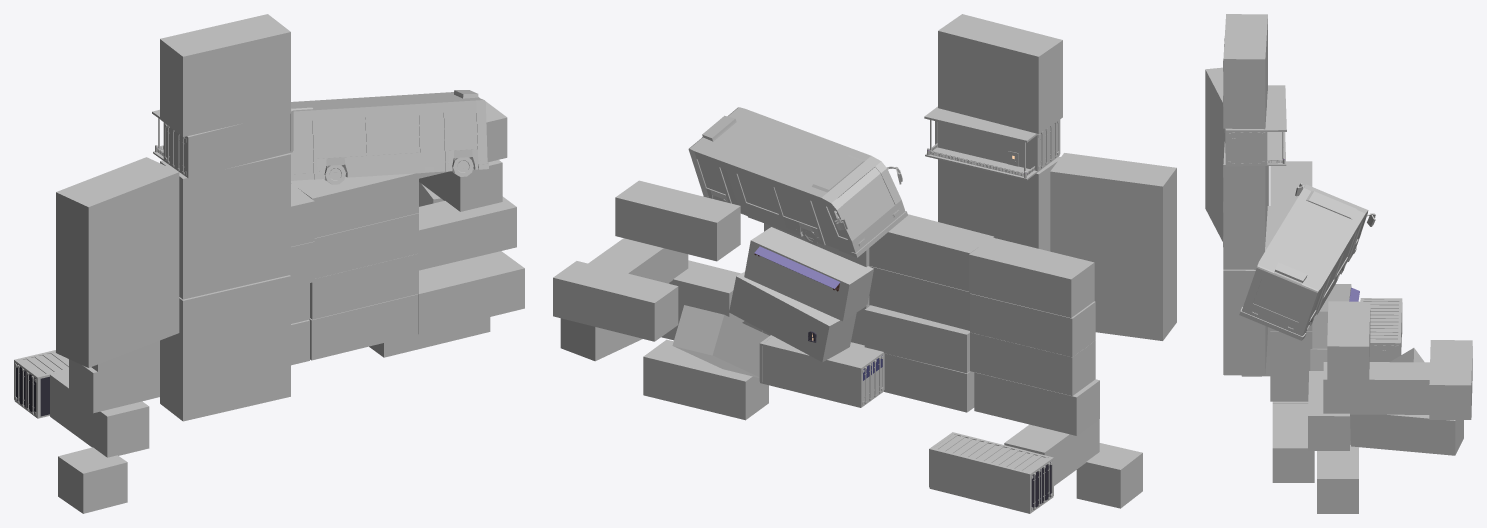
The model's file is CMBKGCrateMountain.fbx.
The picture shows the model from 3 angles, left to right: view 1: azimuth 30°, elevation 25°; view 2: azimuth 150°, elevation 25°; view 3: azimuth 270°, elevation 25°; orthographic projection. The views are drawn at different scales.
Parts seen in each view (by area): view 1: CrateStack.002, CrateStack.001, Crate Mountain Bus, Crates.060, CrateFenced, Crates.075, Crates.083, Crates.067, Crates.061, Crates.069, Crates.072, Crates.068 (+10 smaller); view 2: CrateStack.002, Crate Mountain Bus, CrateStack.001, BoxCrate.062, Crates.078, Crates.077, Crates.084, Crates.085, CrateFenced, BoxCrate.031, Crates.065, Crates.076 (+14 smaller); view 3: CrateStack.002, Crate Mountain Bus, Crates.079, Crates.081, Crates.084, Crates.078, CrateFenced, Crates.060, CrateStack.001, Crates.065, Crates.083, BoxCrate.062 (+7 smaller).
Part boxes in pixels (box(x1,y1,x2,y2)): CrateStack.002: box(160, 14, 290, 421); CrateStack.001: box(56, 157, 179, 367); Crate Mountain Bus: box(290, 90, 488, 184); Crates.060: box(418, 251, 524, 334); CrateFenced: box(152, 109, 293, 178); Crates.075: box(291, 173, 418, 238); Crates.083: box(419, 196, 516, 270); Crates.067: box(50, 370, 149, 457); Crates.061: box(309, 294, 417, 360); Crates.069: box(310, 253, 418, 319); Crates.072: box(314, 213, 418, 278); Crates.068: box(58, 447, 127, 513); CrateStack.002: box(938, 14, 1062, 251); Crate Mountain Bus: box(688, 107, 907, 257); CrateStack.001: box(1050, 153, 1176, 340); BoxCrate.062: box(929, 432, 1053, 513); Crates.078: box(553, 261, 678, 341); Crates.077: box(969, 237, 1094, 317); Crates.084: box(615, 180, 740, 261); Crates.085: box(744, 227, 873, 321); CrateFenced: box(924, 106, 1060, 180); BoxCrate.031: box(759, 335, 884, 407); Crates.065: box(643, 339, 768, 420); Crates.076: box(869, 214, 994, 291); CrateStack.002: box(1223, 14, 1267, 375); Crate Mountain Bus: box(1239, 183, 1375, 340); Crates.079: box(1323, 362, 1429, 414); Crates.081: box(1351, 414, 1463, 455); Crates.084: box(1327, 301, 1370, 381); Crates.078: box(1429, 340, 1472, 419); CrateFenced: box(1224, 85, 1286, 166); Crates.060: box(1272, 403, 1314, 482); CrateStack.001: box(1205, 67, 1269, 241); Crates.065: box(1317, 445, 1358, 513); Crates.083: box(1308, 371, 1350, 450); BoxCrate.062: box(1360, 298, 1402, 361).
Size of the model in its own units: 11569 by 9634 by 6106.
